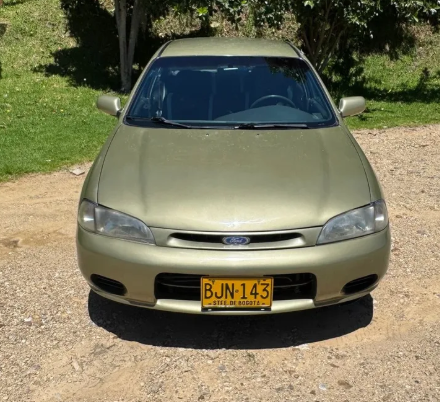placa: (200, 276, 275, 311)
